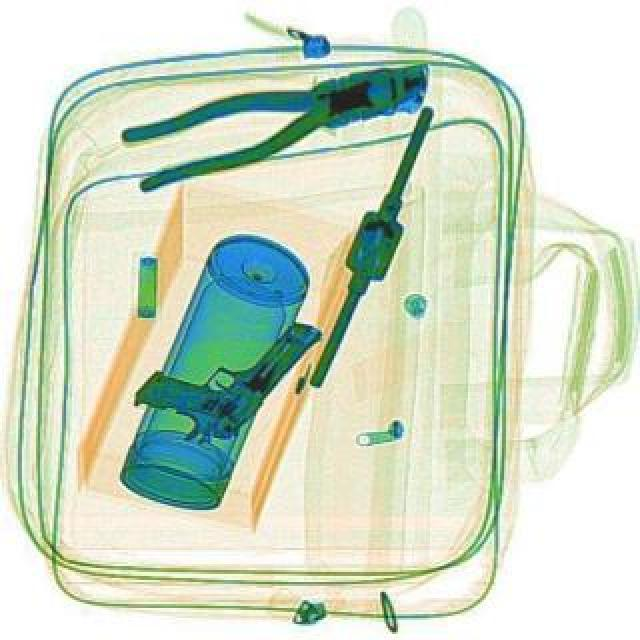gun: (128, 270, 328, 462)
wrench: (120, 42, 442, 194)
